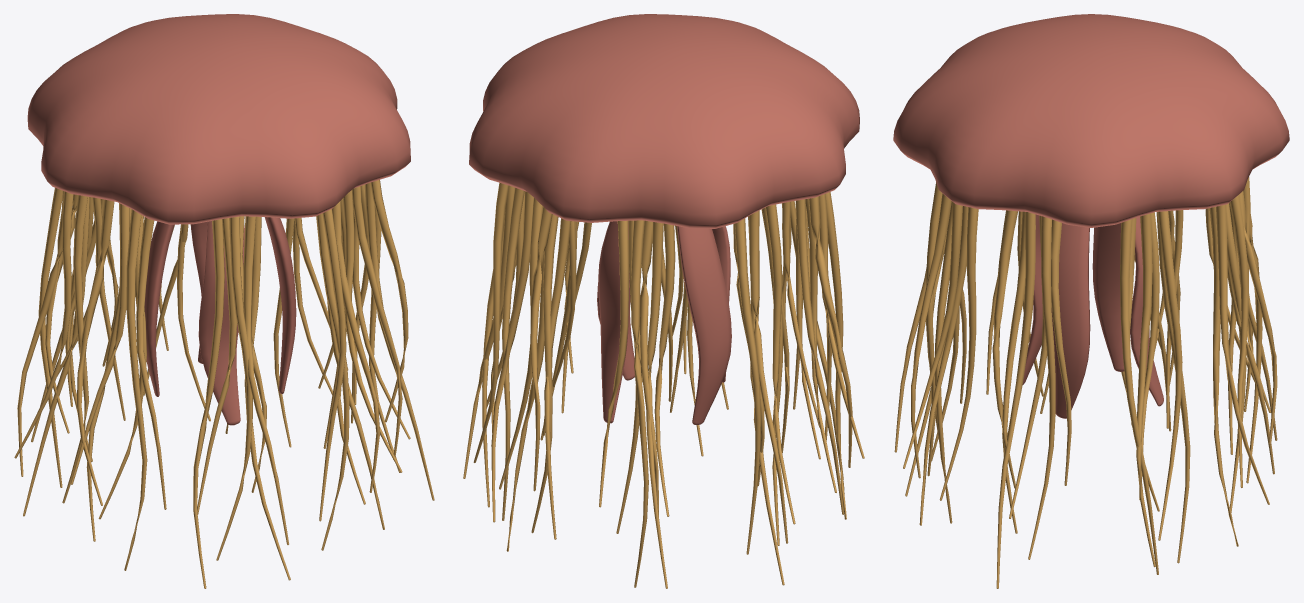
Rendered from small_shark_blue.glb.
The picture shows the model from 3 angles, left to right: view 1: azimuth 30°, elevation 25°; view 2: azimuth 150°, elevation 25°; view 3: azimuth 270°, elevation 25°; orthographic projection. The views are drawn at different scales.
Visible parts, largest first — view 1: lions-mane-jellyfish; view 2: lions-mane-jellyfish; view 3: lions-mane-jellyfish.
Boxes of the visible parts, x1=… form: lions-mane-jellyfish: x1=14, y1=14, x2=434, y2=588; lions-mane-jellyfish: x1=463, y1=14, x2=864, y2=588; lions-mane-jellyfish: x1=893, y1=14, x2=1289, y2=588.
Bounding box in the file's own units: 1 × 1.29 × 1.
